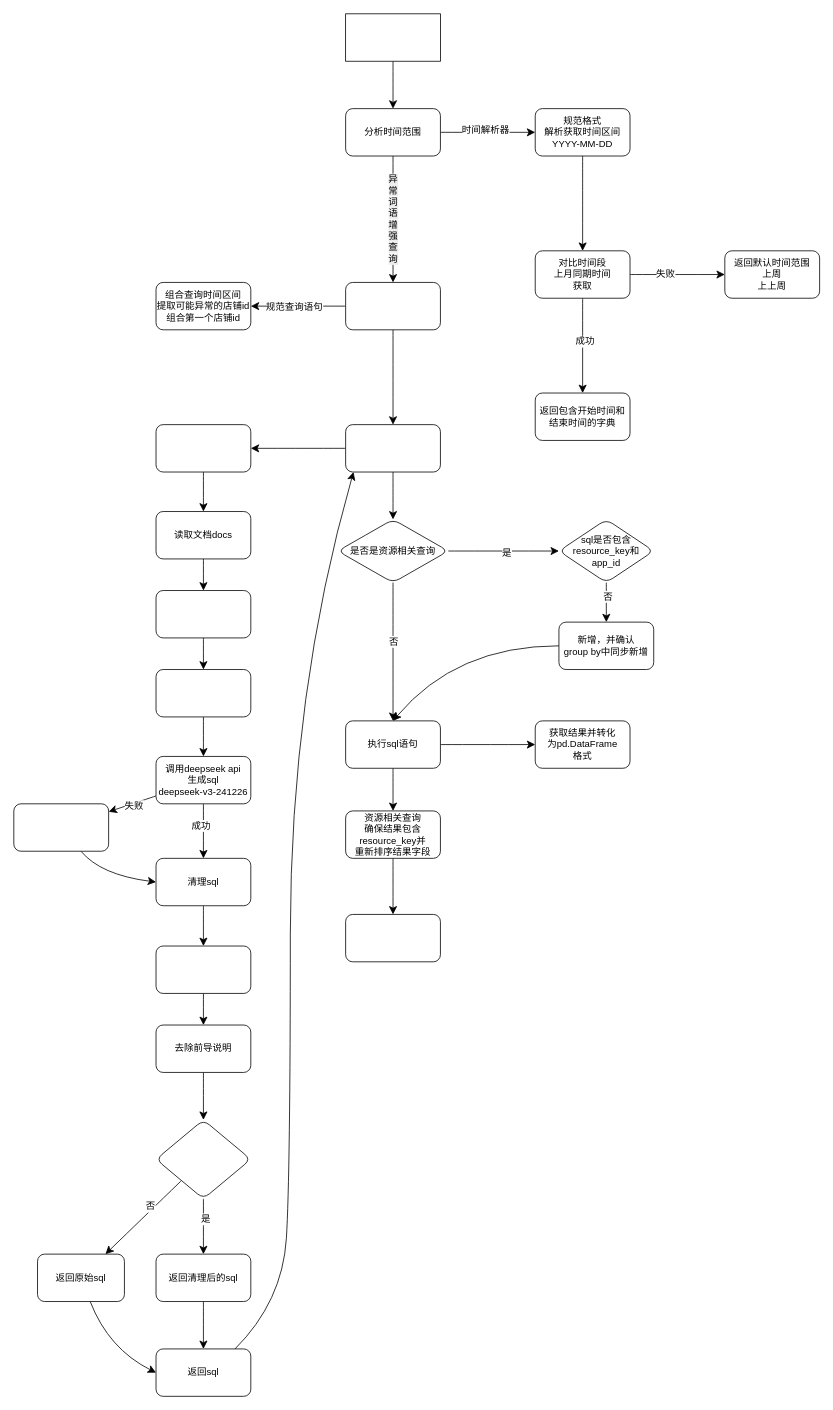
This 833x1410 diagram has some shape labels left out. The centre of each missing label's shape, as x and y in pixels:
"sql中是否有 select或 with" belongs at point (203, 1159).
"使用备用sql" belongs at point (61, 827).
"准换结果为 字典列表" belongs at point (392, 938).
"去除解释性文字" belongs at point (203, 969).
"构建查询提示词 prompt" belongs at point (203, 693).
"正常流量分析" belongs at point (392, 37).
"生成sql" belongs at point (392, 448).
"生成改进的问题描述" belongs at point (392, 306).
"读取示例examples" belongs at point (203, 614).
"读取表结构ddl" belongs at point (203, 448).
